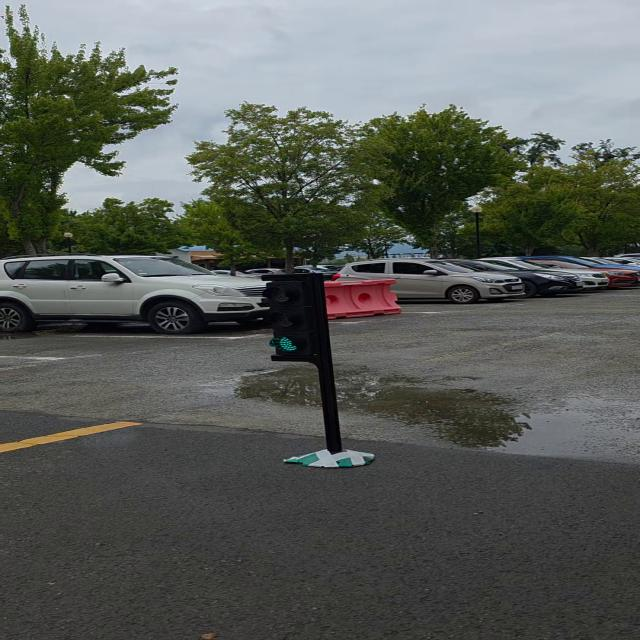green: (265, 272, 336, 364)
